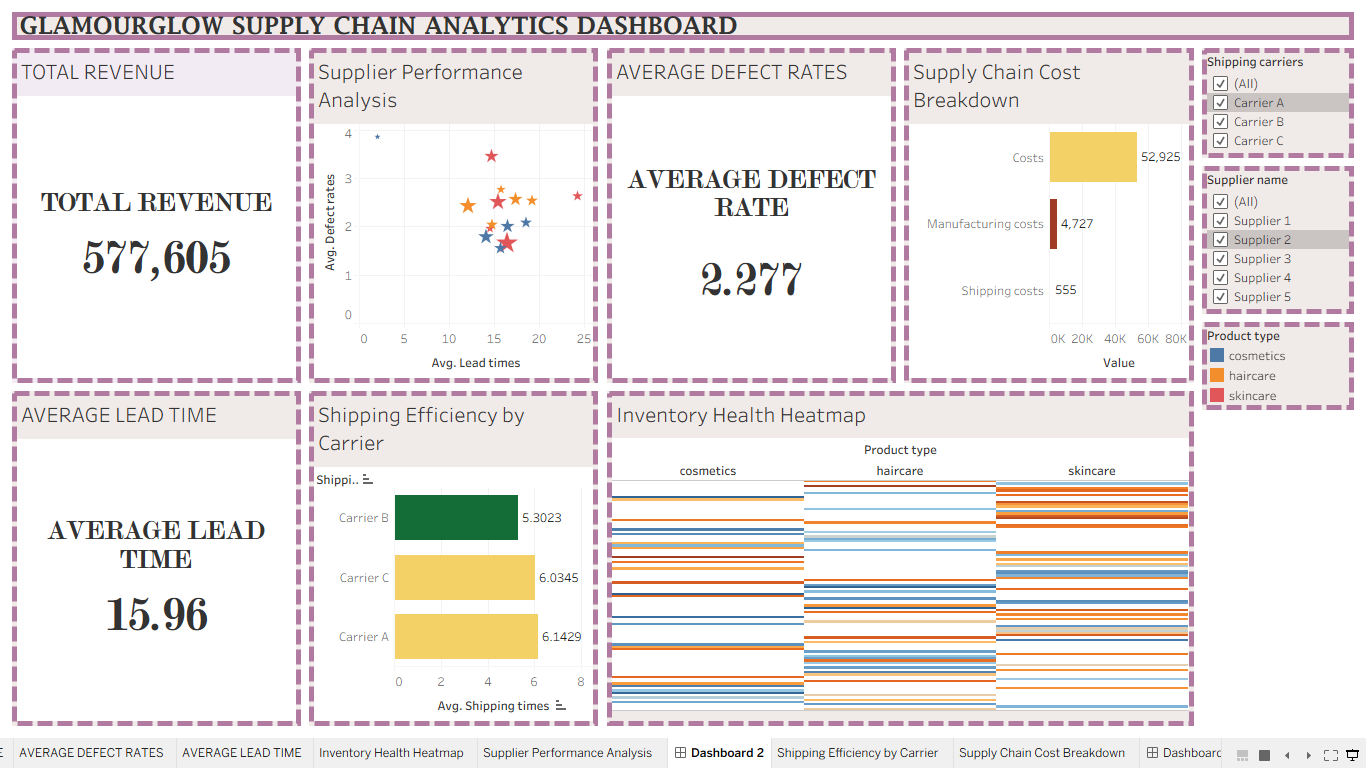

The dashboard page shown, as its layout file describes it:
{"tool":"tableau","page":{"name":"Dashboard 2","canvas":[1000,1000],"units":"permille","ordinal":1},"visuals":[{"type":"title","box":[6.9,13.7,986.1,61.6]},{"type":"worksheet","title":"TOTAL REVENUE","mark":"Automatic","box":[6.9,75.4,211.9,455.4]},{"type":"worksheet","title":"Supplier Performance Analysis","mark":"Shape","rows":["Defect rates"],"cols":["Lead times"],"box":[218.8,75.4,211.9,455.4]},{"type":"worksheet","title":"AVERAGE DEFECT RATES","mark":"Automatic","box":[430.7,75.4,211.9,455.4]},{"type":"worksheet","title":"Supply Chain Cost Breakdown","mark":"Automatic","box":[642.6,75.4,212,455.4]},{"type":"filter","title":"Supplier Performance Analysis","param":"[federated.1qjsdzp14y4mj21exprdy18w9r7w].[none:Shipping carriers:nk]","box":[854.5,75.4,138.5,202.1]},{"type":"filter","title":"Supplier Performance Analysis","param":"[federated.1qjsdzp14y4mj21exprdy18w9r7w].[none:Supplier name:nk]","box":[854.5,277.4,138.5,267.1]},{"type":"worksheet","title":"AVERAGE LEAD TIME","mark":"Automatic","box":[6.9,530.8,211.9,455.5]},{"type":"worksheet","title":"Shipping Efficiency by Carrier","mark":"Automatic","rows":["Shipping carriers"],"cols":["Shipping times"],"box":[218.8,530.8,211.9,455.5]},{"type":"worksheet","title":"Inventory Health Heatmap","mark":"Automatic","rows":["SKU"],"cols":["Product type"],"box":[430.7,530.8,423.8,455.5]},{"type":"legend","title":"Supplier Performance Analysis","param":"[federated.1qjsdzp14y4mj21exprdy18w9r7w].[none:Product type:nk]","box":[854.5,544.5,138.5,164.4]}]}

Visuals, with their boxes on the dashboard's canvas, which has no fixed pixel size, in thousandths of its width and height (x1, y1, x2, y2). These are canvas units, not pixel positions in the 1366x768 screenshot, which may show the page scaled, cropped or inside an application window:
title: (7,14,993,75)
"TOTAL REVENUE" worksheet: (7,75,219,531)
"Supplier Performance Analysis" worksheet (Shape marks): (219,75,431,531)
"AVERAGE DEFECT RATES" worksheet: (431,75,643,531)
"Supply Chain Cost Breakdown" worksheet: (643,75,855,531)
"Supplier Performance Analysis" filter: (854,75,993,278)
"Supplier Performance Analysis" filter: (854,277,993,544)
"AVERAGE LEAD TIME" worksheet: (7,531,219,986)
"Shipping Efficiency by Carrier" worksheet: (219,531,431,986)
"Inventory Health Heatmap" worksheet: (431,531,854,986)
"Supplier Performance Analysis" legend: (854,544,993,709)
